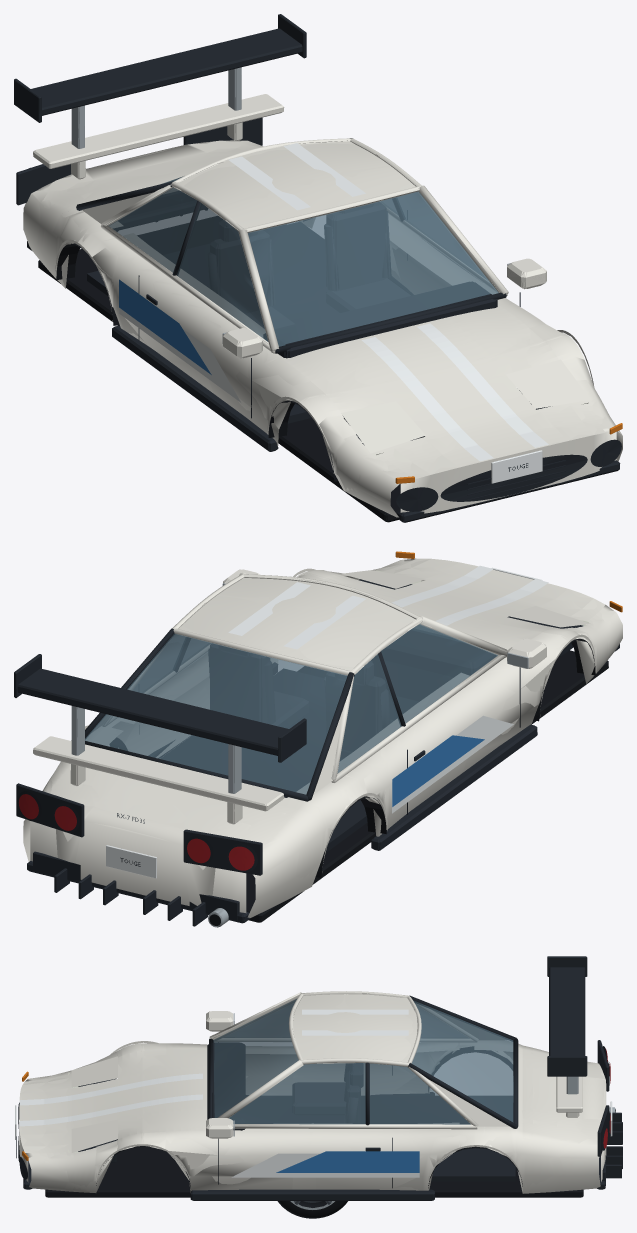
3 renders of one model, top to bottom at view 1: azimuth 30°, elevation 25°; view 2: azimuth 150°, elevation 25°; view 3: azimuth 270°, elevation 25°, orthographic. The views are drawn at different scales.
Parts seen in each view (by area): view 1: LOD0_cabin, LOD0_body, LOD0_glass, LOD1_glass, LOD1_body, LOD0_hood, LOD1_hood, LOD1_cabin, LOD1_spoiler_gt, LOD0_spoiler_gt, LOD0_vinyl_apex, LOD1_spoiler_stock (+6 smaller); view 2: LOD0_body, LOD0_cabin, LOD0_glass, LOD1_glass, LOD1_body, LOD1_spoiler_gt, LOD1_hood, LOD0_spoiler_gt, LOD0_hood, LOD1_cabin, LOD0_vinyl_apex, LOD1_spoiler_stock (+5 smaller); view 3: LOD0_body, LOD0_cabin, LOD0_glass, LOD1_glass, LOD1_body, LOD0_hood, LOD1_cabin, LOD1_hood, LOD0_vinyl_apex, LOD1_spoiler_gt, LOD0_vinyl_twin, LOD0_spoiler_gt (+6 smaller).
Part boxes in pixels (<box>): LOD0_cabin: <box>76,138,508,423</box>; LOD0_body: <box>16,117,622,522</box>; LOD0_glass: <box>109,176,498,346</box>; LOD1_glass: <box>109,177,498,346</box>; LOD1_body: <box>17,140,622,522</box>; LOD0_hood: <box>281,305,605,478</box>; LOD1_hood: <box>283,315,593,474</box>; LOD1_cabin: <box>77,138,507,422</box>; LOD1_spoiler_gt: <box>14,14,306,148</box>; LOD0_spoiler_gt: <box>14,14,306,148</box>; LOD0_vinyl_apex: <box>119,242,472,402</box>; LOD1_spoiler_stock: <box>33,94,284,179</box>; LOD0_body: <box>16,551,622,927</box>; LOD0_cabin: <box>85,572,507,852</box>; LOD0_glass: <box>85,624,497,794</box>; LOD1_glass: <box>85,624,497,794</box>; LOD1_body: <box>16,551,622,927</box>; LOD1_spoiler_gt: <box>16,654,293,793</box>; LOD1_hood: <box>322,559,593,639</box>; LOD0_spoiler_gt: <box>14,654,306,793</box>; LOD0_hood: <box>327,558,605,649</box>; LOD1_cabin: <box>130,573,506,850</box>; LOD0_vinyl_apex: <box>185,652,513,813</box>; LOD1_spoiler_stock: <box>33,736,284,823</box>; LOD0_body: <box>15,1011,622,1200</box>; LOD0_cabin: <box>207,991,518,1181</box>; LOD0_glass: <box>213,999,513,1124</box>; LOD1_glass: <box>213,999,513,1124</box>; LOD1_body: <box>18,1011,615,1200</box>; LOD0_hood: <box>19,1048,207,1153</box>; LOD1_cabin: <box>208,993,517,1181</box>; LOD1_hood: <box>19,1049,190,1146</box>; LOD0_vinyl_apex: <box>231,1151,419,1177</box>; LOD1_spoiler_gt: <box>548,967,584,1093</box>; LOD0_vinyl_twin: <box>21,1009,408,1126</box>; LOD0_spoiler_gt: <box>547,956,587,1094</box>.
Size of the model in its own units: 2.02 by 1.67 by 4.45.
